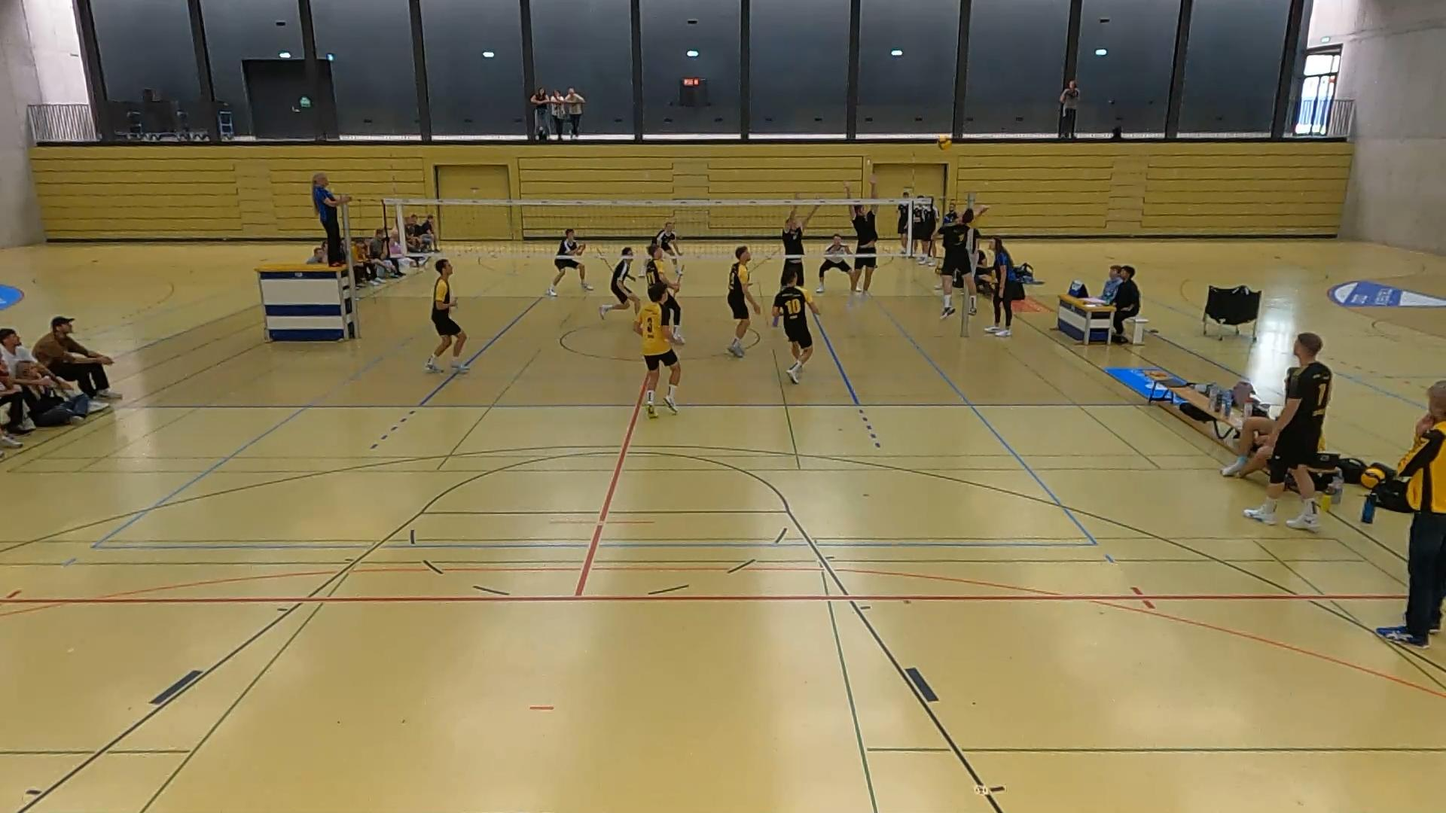attacco: (933, 198, 986, 323)
muro: (774, 188, 828, 302), (840, 174, 882, 315)
